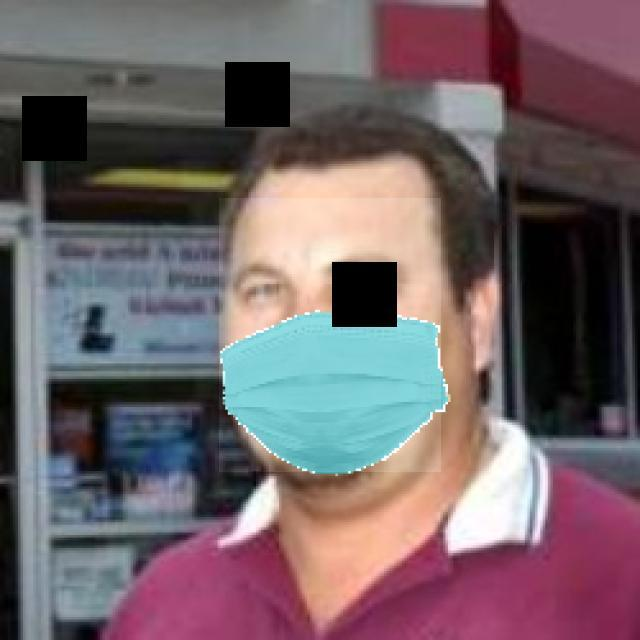surgical: (219, 198, 441, 472)
